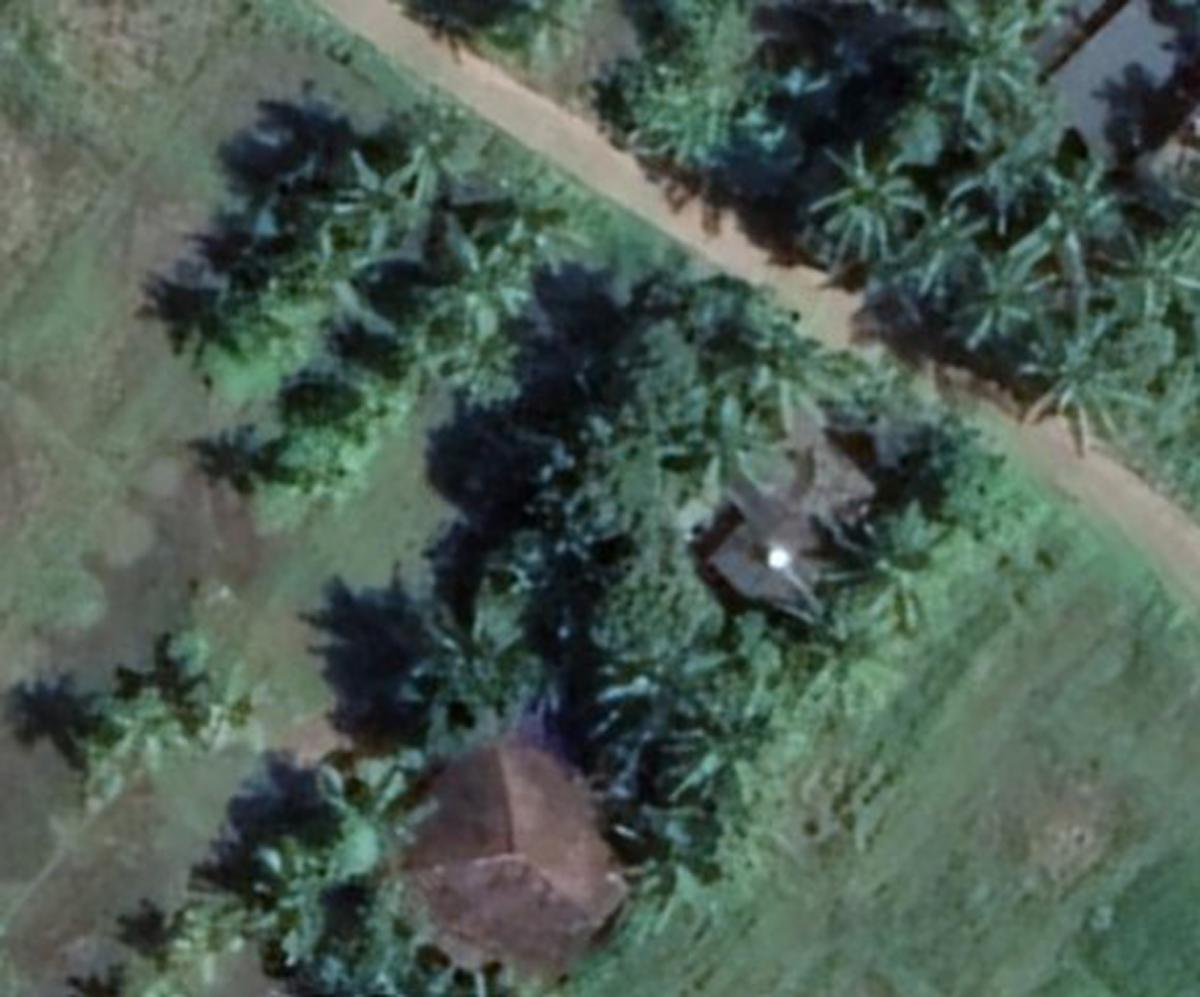coconut: (393, 568, 529, 707), (840, 493, 965, 626), (1020, 315, 1134, 451), (302, 148, 435, 260), (305, 746, 440, 856), (673, 686, 793, 806), (926, 5, 1048, 122), (785, 597, 900, 717), (730, 318, 845, 433), (811, 135, 910, 266), (944, 117, 1056, 232), (425, 240, 542, 341), (1030, 153, 1134, 250), (472, 190, 579, 276), (952, 245, 1033, 357), (889, 211, 973, 315), (1111, 216, 1200, 313)
